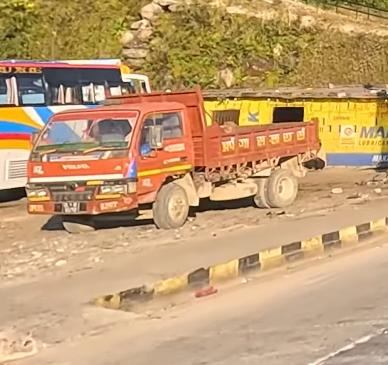bus: (0, 45, 143, 161)
mini_truck: (22, 84, 326, 239)
